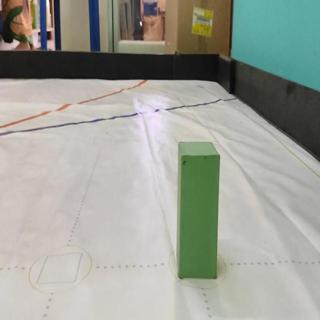greenbox: (177, 141, 221, 280)
